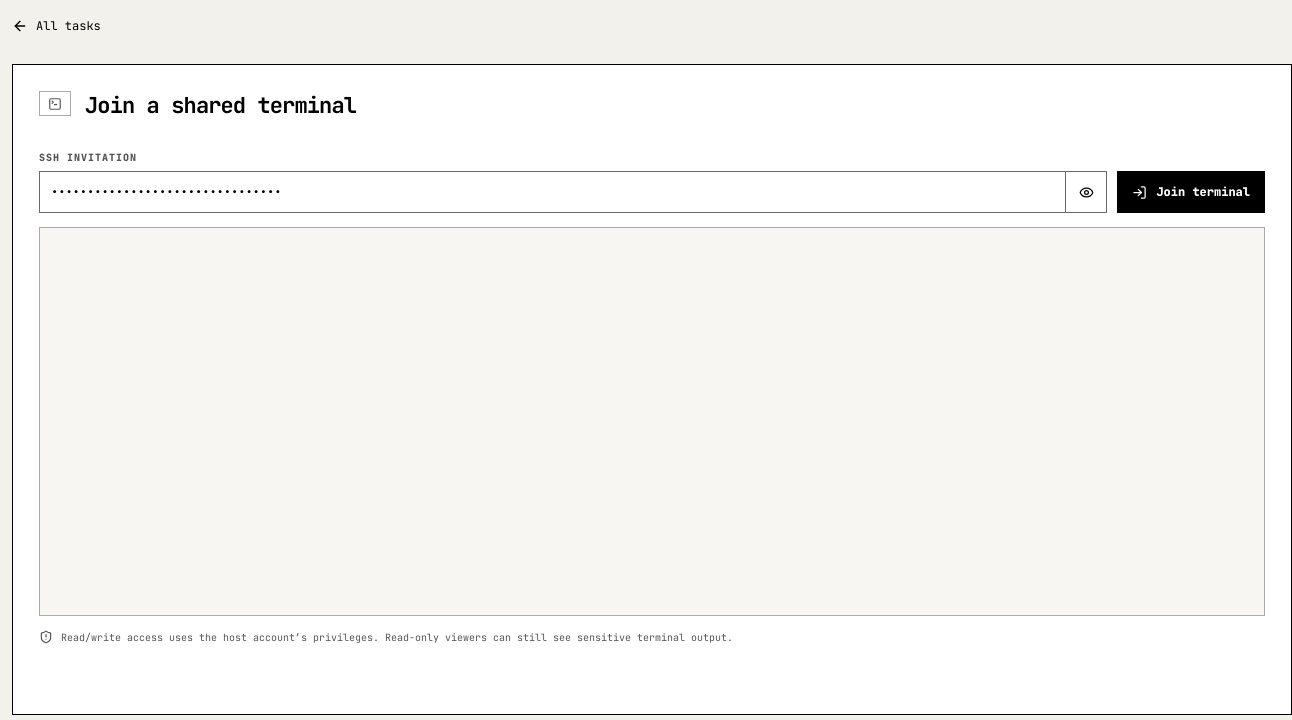
SSH homepage mode › switches from files and suppresses local input for read-only access
Earlier steps of the test are not shown.
Expected: the password field labelled "SSH invitation" holds "acid-acorn-acre-acts-ahead-alien", x1=39 y1=171 x2=1065 y2=213
What coordinates should you click on to do the following:
click the button "Join terminal"
I would click on:
 (1191, 192)
Its box is x1=1117 y1=171 x2=1265 y2=213.
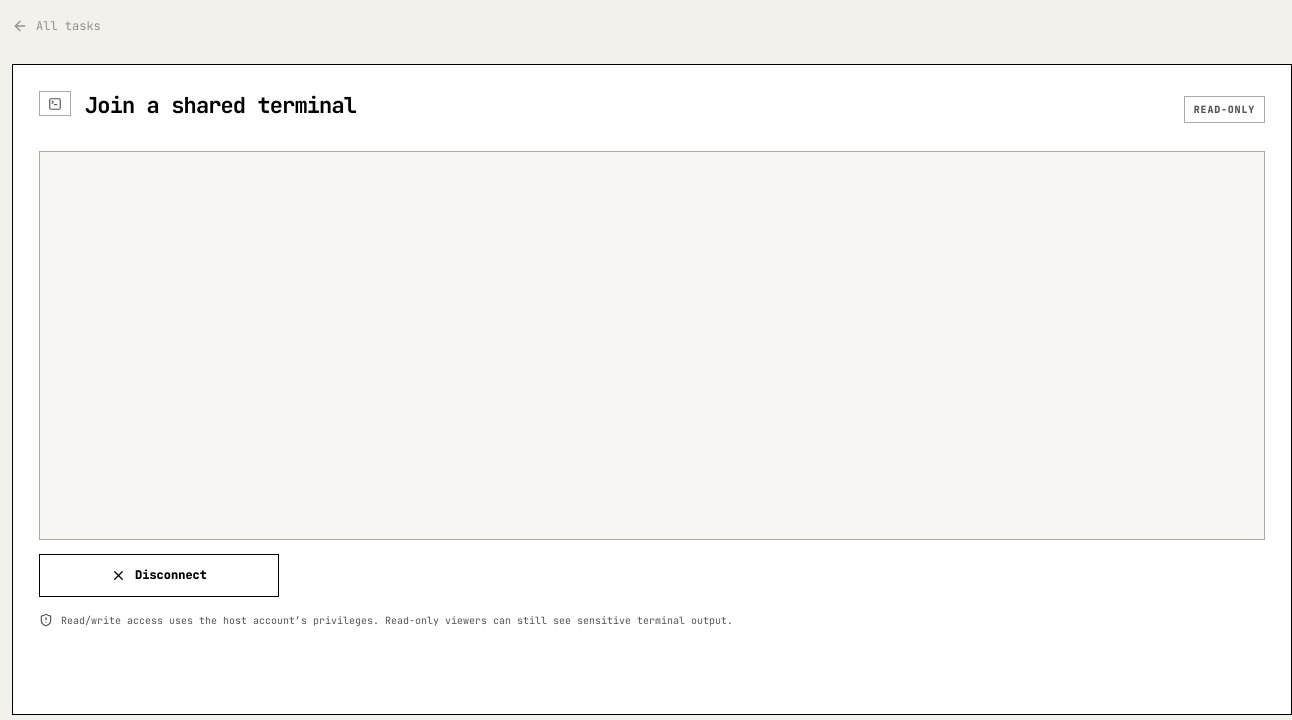
Expected: the button "All tasks" is disabled, x1=12 y1=4 x2=101 y2=48
Expected: the text "Read-only" is shown, x1=1184 y1=96 x2=1265 y2=122
